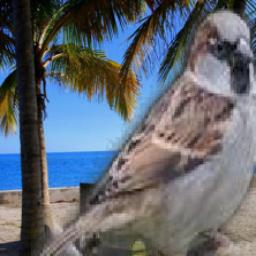Sparrow: (31, 10, 256, 256)
